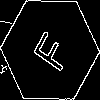F: (25, 25, 73, 74)
